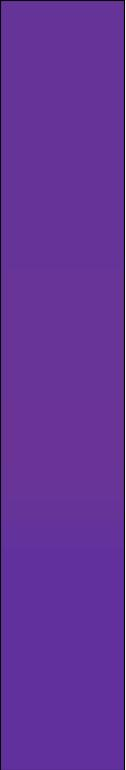safe: (14, 15, 119, 750)
